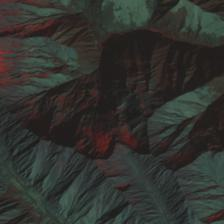landslides: (64, 76, 91, 120), (94, 73, 115, 112), (91, 106, 103, 127), (55, 0, 70, 15), (85, 95, 96, 114), (43, 64, 65, 73)
